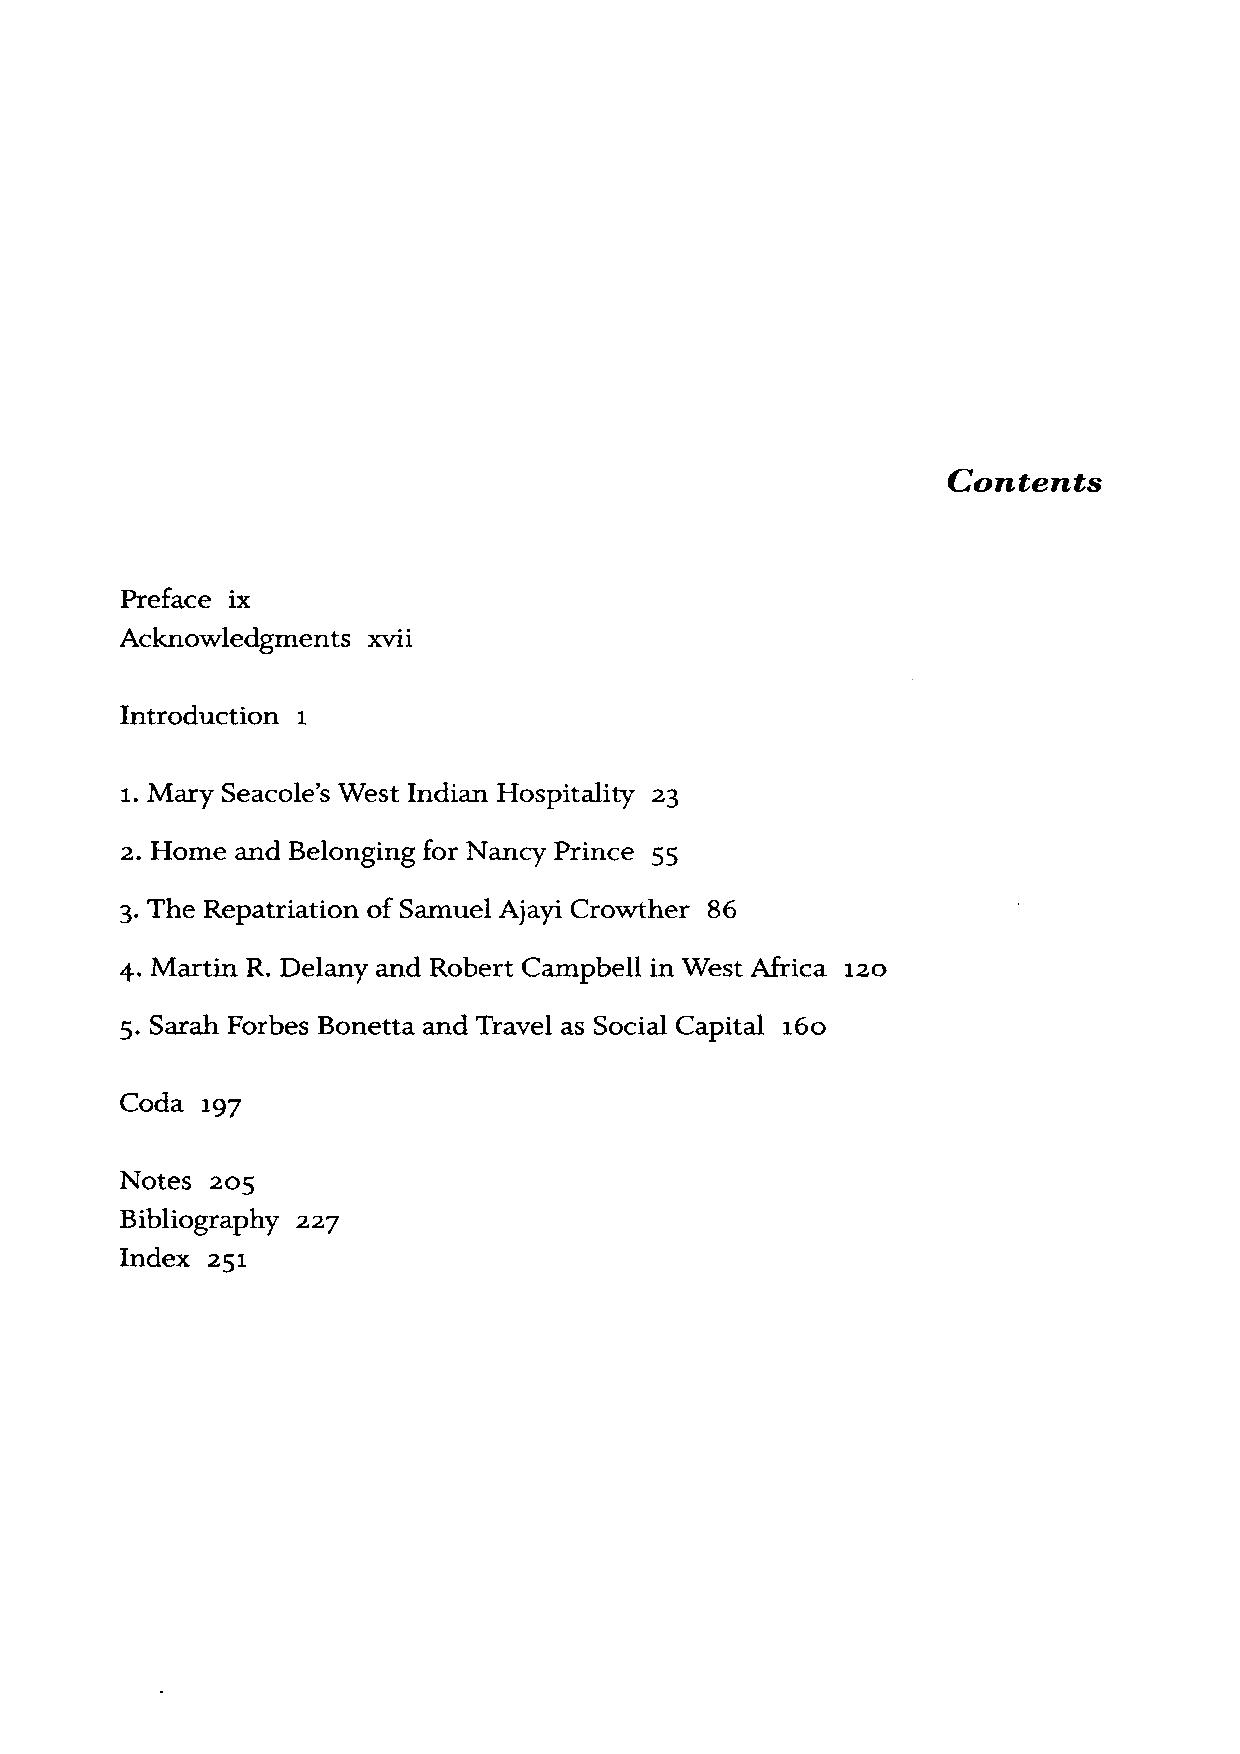TOC_chapter: (118, 953, 828, 985), (117, 1011, 764, 1044), (118, 892, 688, 927), (118, 837, 632, 870), (118, 778, 629, 811), (117, 623, 350, 655), (117, 1205, 280, 1240), (117, 702, 282, 727), (115, 1164, 195, 1198), (118, 584, 209, 612), (118, 1086, 185, 1121), (118, 1244, 191, 1275), (229, 654, 236, 658)
TOC_pagenumber: (207, 1168, 258, 1198), (295, 1205, 341, 1239), (365, 623, 413, 652), (199, 1088, 244, 1119), (778, 1012, 828, 1040), (203, 1245, 250, 1275), (839, 956, 887, 980), (702, 892, 737, 925), (647, 778, 680, 811), (648, 839, 678, 867), (223, 584, 251, 611), (293, 702, 313, 729)
chapter: (945, 464, 1100, 494)
